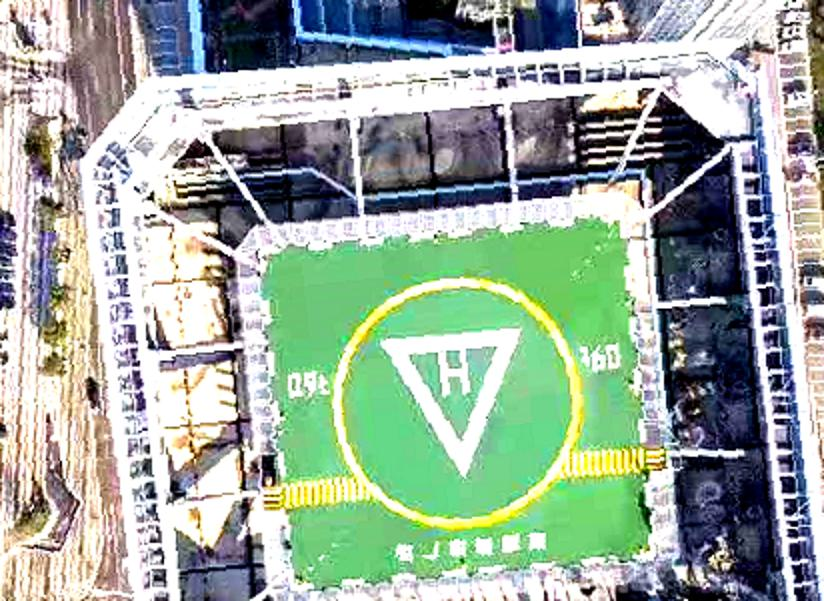Apron: (327, 266, 599, 540)
